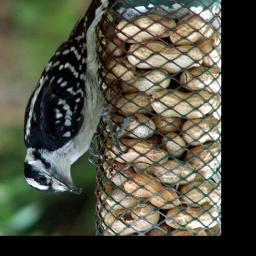Woodpecker: (9, 0, 131, 198)
